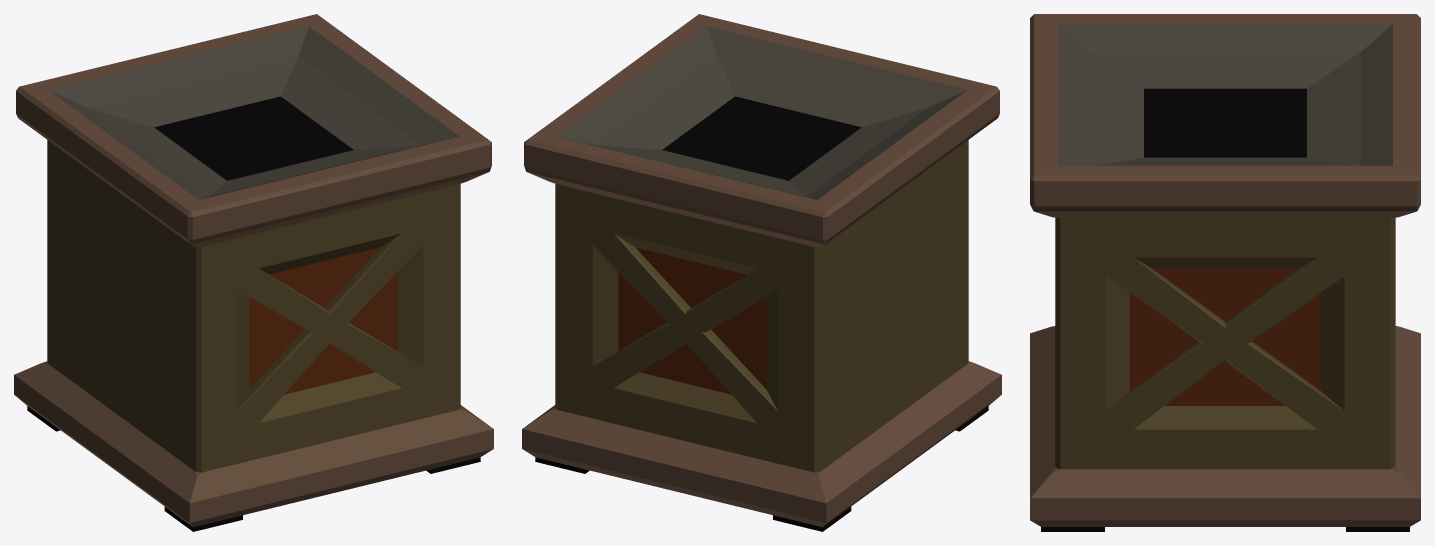
Rendered from moonshot_vacuumcrate.fbx.
3 renders of one model, left to right at view 1: azimuth 30°, elevation 25°; view 2: azimuth 150°, elevation 25°; view 3: azimuth 270°, elevation 25°, orthographic. The views are drawn at different scales.
Visible parts, largest first — view 1: Cube; view 2: Cube; view 3: Cube.
Part boxes in pixels (x1,y1,x2,y2): Cube: (14,14,493,531); Cube: (522,14,1001,531); Cube: (1030,14,1420,531).
Bounding box in the file's own units: 100 × 100 × 101.
